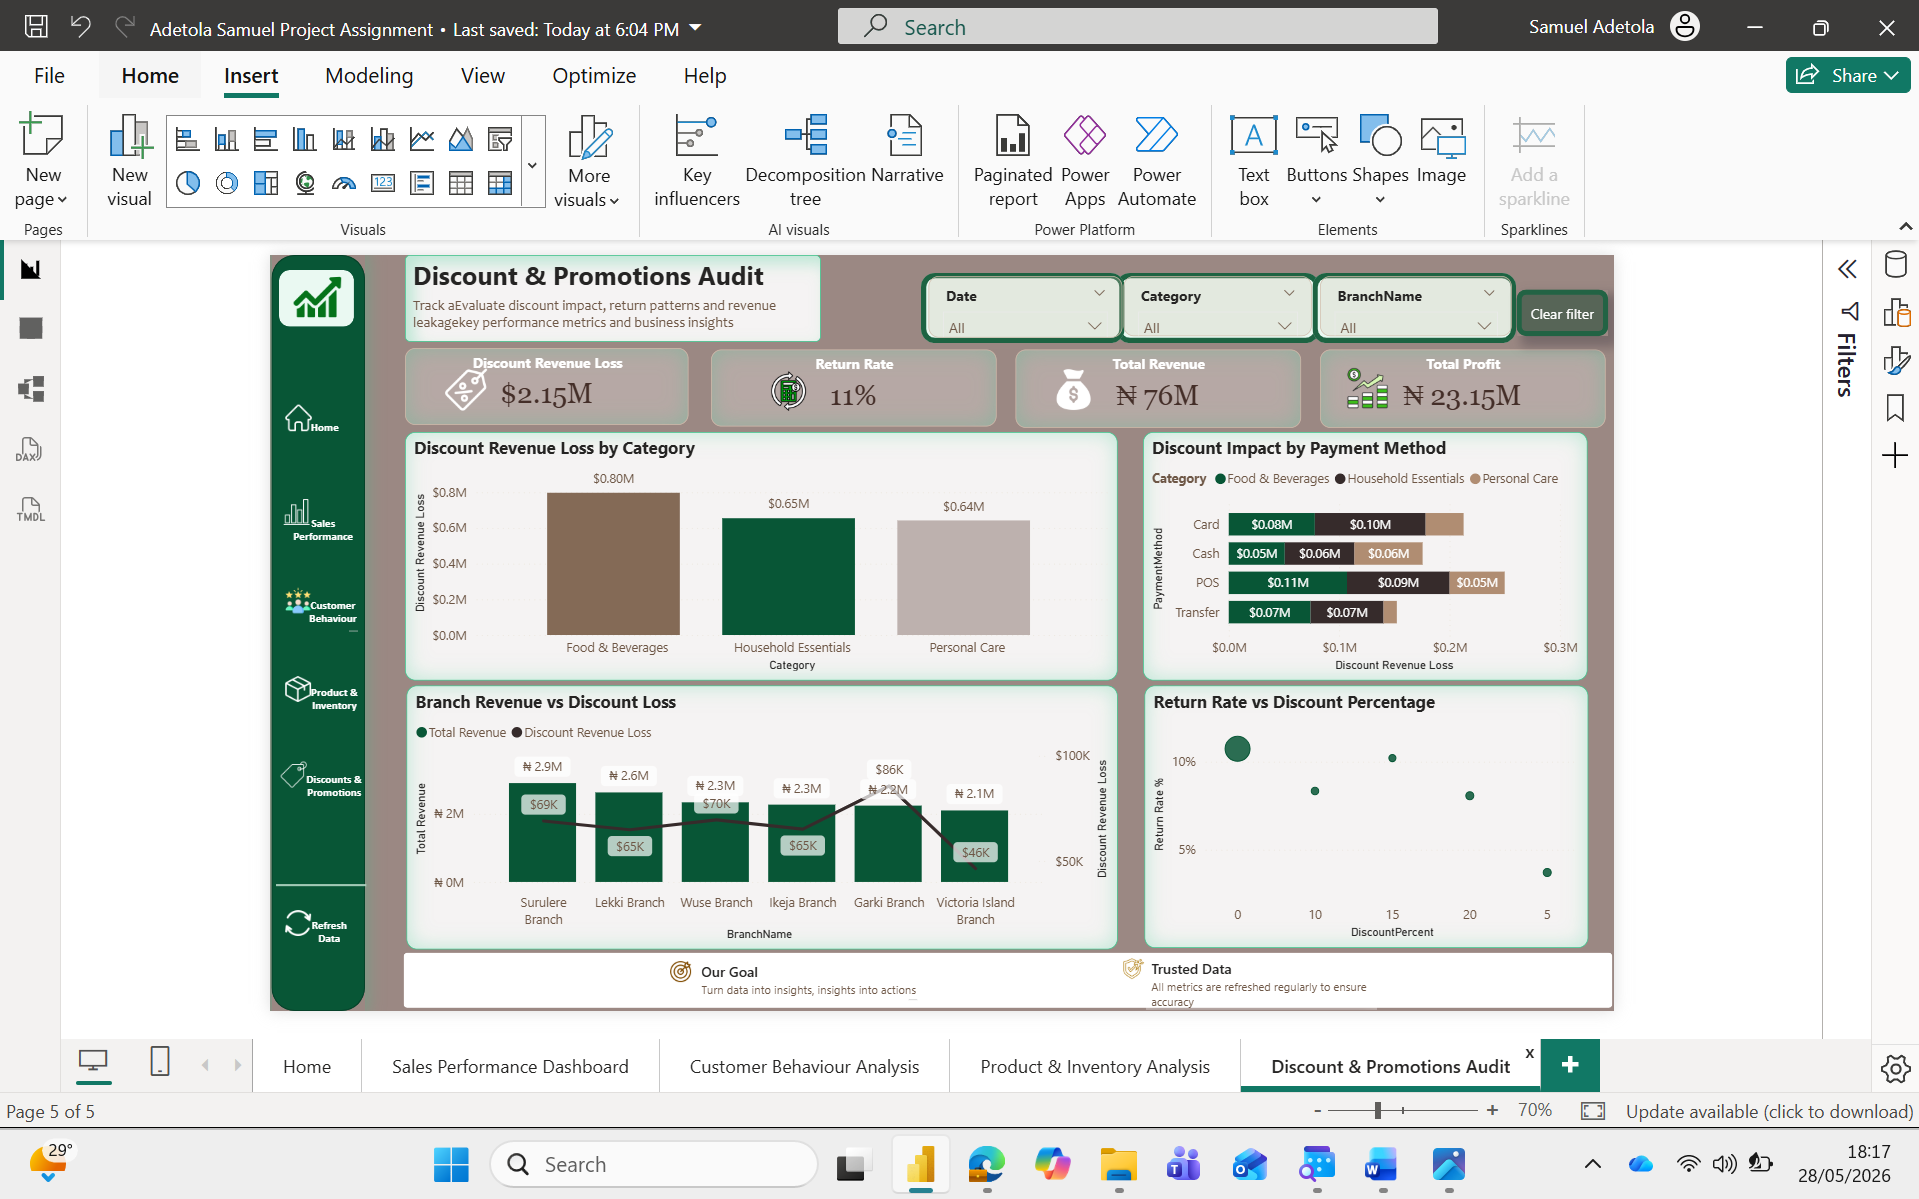

The page's visual inventory and layout, read from the dashboard file:
{"tool":"powerbi","page":{"name":"Discount & Promotions Audit","canvas":[1280,720],"ordinal":4},"visuals":[{"type":"shape","box":[805.8,16.8,193.9,66.8],"z":0},{"type":"shape","box":[993.4,16.8,193.9,66.8],"z":1000},{"type":"shape","box":[619.9,17.5,193.9,66.8],"z":2000},{"type":"card","title":"Discount Revenue Loss","fields":{"Values":["Measures (4).Discount Revenue Loss"]},"box":[128.7,89,270.2,73.1],"z":3000},{"type":"card","title":"Return Rate","fields":{"Values":["Measures (4).Return Rate %"]},"box":[419.6,90.6,271.8,73.1],"z":4000},{"type":"card","title":"Total Revenue","fields":{"Values":["Measures (4).Total Revenue"]},"box":[710.5,90.6,271.8,74.7],"z":5000},{"type":"card","title":"Total Profit","fields":{"Values":["Measures (4).Total Profit"]},"box":[999.7,90.6,271.8,74.7],"z":6000},{"type":"clusteredColumnChart","title":"Discount Revenue Loss by Category","fields":{"Category":["products.Category"],"Y":["Measures (4).Discount Revenue Loss"]},"box":[128.7,168.4,678.3,236.7],"z":7000},{"type":"barChart","title":"Discount Impact by Payment Method","fields":{"Category":["sales_transactions.PaymentMethod"],"Y":["Measures (4).Discount Revenue Loss"],"Series":["products.Category"]},"box":[832.1,168.4,423.3,236.7],"z":8000},{"type":"lineClusteredColumnComboChart","title":"Branch Revenue vs Discount Loss","fields":{"Category":["branches.BranchName"],"Y":["Measures (4).Total Revenue"],"Y2":["Measures (4).Discount Revenue Loss"]},"box":[130,410,677.1,251.4],"z":9000},{"type":"textbox","title":"Discount & Promotions Audit","box":[128.7,0,395.8,82.6],"z":10000},{"type":"scatterChart","title":"Return Rate vs Discount Percentage","fields":{"X":["sales_transactions.DiscountPercent"],"Y":["Measures (4).Return Rate %"],"Size":["Measures (4).Total Revenue"]},"box":[832.9,410,422.9,250],"z":11000},{"type":"shape","box":[1.6,0,89,720],"z":12000},{"type":"image","box":[6.6,136.4,39.7,35.8],"z":13000},{"type":"image","title":"Sales Performance","box":[5.3,226.5,39.7,35],"z":14000},{"type":"image","box":[6.6,311.3,39,35],"z":15000},{"type":"image","box":[6.6,396.1,39,35],"z":16000},{"type":"image","box":[2.6,476.9,39.7,35],"z":17000},{"type":"shape","box":[5.3,574.9,86.1,51.7],"z":18000},{"type":"image","box":[6.6,618.6,39,35],"z":19000},{"type":"slicer","fields":{"Values":["sales_transactions.Date"]},"box":[627.8,20.7,184.4,58.8],"z":20000},{"type":"slicer","fields":{"Values":["products.Category"]},"box":[812.2,20.2,179.6,57.2],"z":21000},{"type":"slicer","fields":{"Values":["branches.BranchName"]},"box":[999.7,20.2,182.8,57.2],"z":22000},{"type":"actionButton","box":[1187.3,33.4,87.4,44.5],"z":23000},{"type":"shape","box":[7.9,14.3,71.5,54],"z":24000},{"type":"image","box":[17.5,11.1,55.6,57.2],"z":25000},{"type":"textbox","title":"Home","box":[1.6,157.4,101.7,20.7],"z":26000},{"type":"textbox","title":"Sales                                        Performance","box":[14.3,247.9,73.1,25.4],"z":27000},{"type":"textbox","title":"Customer Behaviour","box":[31.8,327.4,57.2,36.6],"z":28000},{"type":"textbox","title":"Product & Inventory","box":[33.4,410.1,57.2,31.8],"z":29000},{"type":"textbox","title":"Discounts & Promotions","box":[28.6,492.7,65.2,33.4],"z":30000},{"type":"textbox","title":"Refresh Data","box":[27,631,58.8,25.4],"z":31000},{"type":"image","box":[740,102.9,50,50],"z":32000},{"type":"image","box":[468.6,104.3,50,50],"z":33000},{"type":"image","box":[1020,101.4,50,50],"z":34000},{"type":"image","box":[161.4,102.9,50,50],"z":35000},{"type":"shape","box":[127.1,664.3,1151.4,52.9],"z":35001},{"type":"textbox","title":"Our Goal","box":[405.7,672.9,215.7,41.4],"z":35002},{"type":"textbox","title":"Trusted Data","box":[834.3,670,220,48.6],"z":35003},{"type":"image","box":[807.1,664.3,30,30],"z":35004},{"type":"image","box":[375.7,667.1,30,30],"z":35005}]}

Visuals, with their boxes on the page's 1280x720 design canvas (x1, y1, x2, y2). These are canvas units, not pixel positions in the 1919x1199 screenshot, which may show the page scaled, cropped or inside an application window:
shape: {"x1": 806, "y1": 17, "x2": 1000, "y2": 84}
shape: {"x1": 993, "y1": 17, "x2": 1187, "y2": 84}
shape: {"x1": 620, "y1": 18, "x2": 814, "y2": 84}
"Discount Revenue Loss" card: {"x1": 129, "y1": 89, "x2": 399, "y2": 162}
"Return Rate" card: {"x1": 420, "y1": 91, "x2": 691, "y2": 164}
"Total Revenue" card: {"x1": 710, "y1": 91, "x2": 982, "y2": 165}
"Total Profit" card: {"x1": 1000, "y1": 91, "x2": 1272, "y2": 165}
"Discount Revenue Loss by Category" clusteredColumnChart: {"x1": 129, "y1": 168, "x2": 807, "y2": 405}
"Discount Impact by Payment Method" barChart: {"x1": 832, "y1": 168, "x2": 1255, "y2": 405}
"Branch Revenue vs Discount Loss" lineClusteredColumnComboChart: {"x1": 130, "y1": 410, "x2": 807, "y2": 661}
"Discount & Promotions Audit" textbox: {"x1": 129, "y1": 0, "x2": 524, "y2": 83}
"Return Rate vs Discount Percentage" scatterChart: {"x1": 833, "y1": 410, "x2": 1256, "y2": 660}
shape: {"x1": 2, "y1": 0, "x2": 91, "y2": 720}
image: {"x1": 7, "y1": 136, "x2": 46, "y2": 172}
"Sales Performance" image: {"x1": 5, "y1": 226, "x2": 45, "y2": 262}
image: {"x1": 7, "y1": 311, "x2": 46, "y2": 346}
image: {"x1": 7, "y1": 396, "x2": 46, "y2": 431}
image: {"x1": 3, "y1": 477, "x2": 42, "y2": 512}
shape: {"x1": 5, "y1": 575, "x2": 91, "y2": 627}
image: {"x1": 7, "y1": 619, "x2": 46, "y2": 654}
slicer - sales_transactions.Date: {"x1": 628, "y1": 21, "x2": 812, "y2": 80}
slicer - products.Category: {"x1": 812, "y1": 20, "x2": 992, "y2": 77}
slicer - branches.BranchName: {"x1": 1000, "y1": 20, "x2": 1182, "y2": 77}
actionButton: {"x1": 1187, "y1": 33, "x2": 1275, "y2": 78}
shape: {"x1": 8, "y1": 14, "x2": 79, "y2": 68}
image: {"x1": 18, "y1": 11, "x2": 73, "y2": 68}
"Home" textbox: {"x1": 2, "y1": 157, "x2": 103, "y2": 178}
"Sales                                        Performance" textbox: {"x1": 14, "y1": 248, "x2": 87, "y2": 273}
"Customer Behaviour" textbox: {"x1": 32, "y1": 327, "x2": 89, "y2": 364}
"Product & Inventory" textbox: {"x1": 33, "y1": 410, "x2": 91, "y2": 442}
"Discounts & Promotions" textbox: {"x1": 29, "y1": 493, "x2": 94, "y2": 526}
"Refresh Data" textbox: {"x1": 27, "y1": 631, "x2": 86, "y2": 656}
image: {"x1": 740, "y1": 103, "x2": 790, "y2": 153}
image: {"x1": 469, "y1": 104, "x2": 519, "y2": 154}
image: {"x1": 1020, "y1": 101, "x2": 1070, "y2": 151}
image: {"x1": 161, "y1": 103, "x2": 211, "y2": 153}
shape: {"x1": 127, "y1": 664, "x2": 1278, "y2": 717}
"Our Goal" textbox: {"x1": 406, "y1": 673, "x2": 621, "y2": 714}
"Trusted Data" textbox: {"x1": 834, "y1": 670, "x2": 1054, "y2": 719}
image: {"x1": 807, "y1": 664, "x2": 837, "y2": 694}
image: {"x1": 376, "y1": 667, "x2": 406, "y2": 697}
